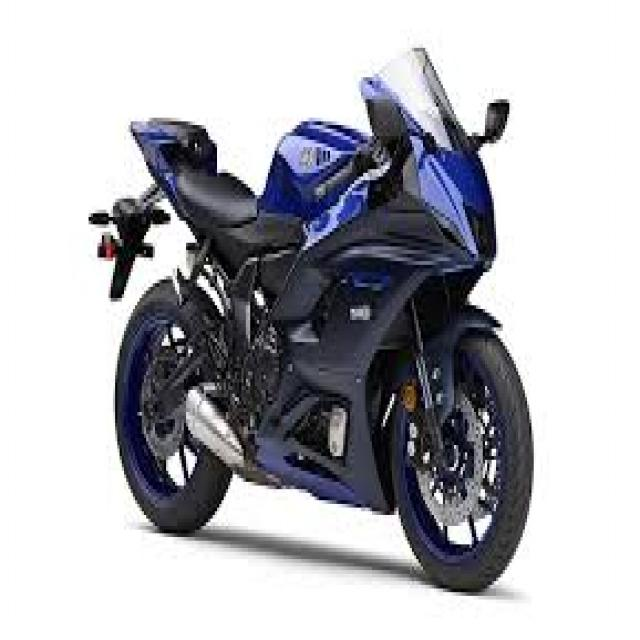Bike: (106, 52, 532, 600)
